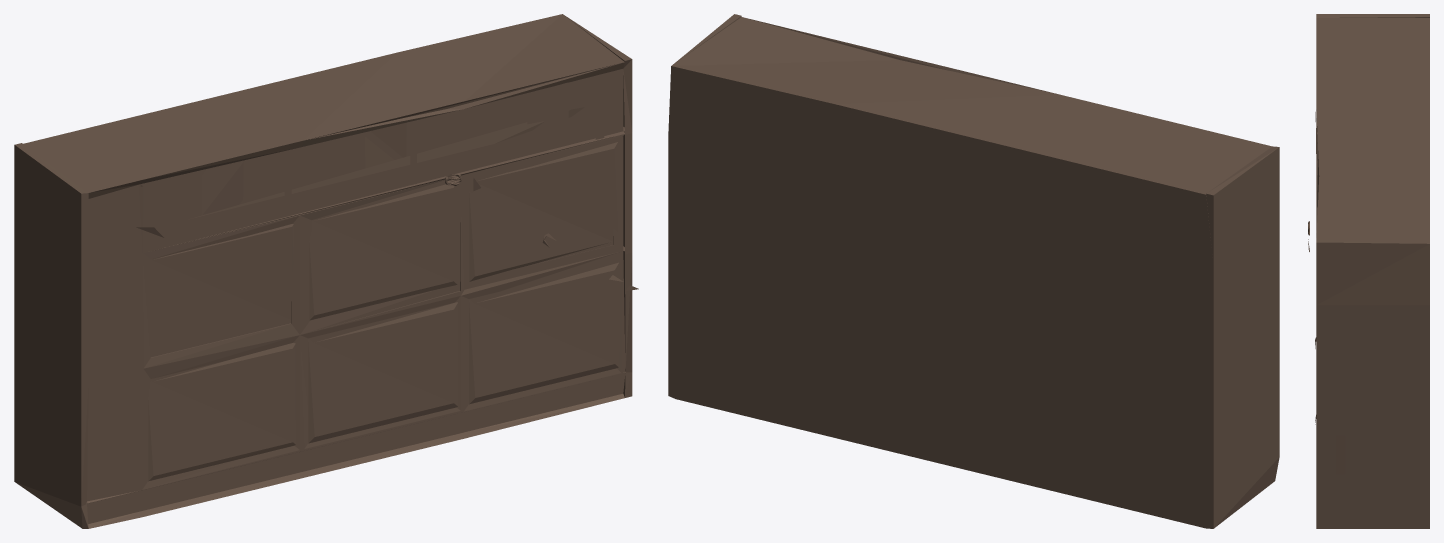
Rendered from bw-vault.lod2.glb.
The picture shows the model from 3 angles, left to right: view 1: azimuth 30°, elevation 25°; view 2: azimuth 150°, elevation 25°; view 3: azimuth 270°, elevation 25°; orthographic projection. The views are drawn at different scales.
Visible parts, largest first — view 1: Body.002_Material.003_0; view 2: Body.002_Material.003_0; view 3: Body.002_Material.003_0.
Boxes of the visible parts, box(x1,y1,x2,y2) form: Body.002_Material.003_0: box(14, 14, 638, 528); Body.002_Material.003_0: box(668, 14, 1279, 528); Body.002_Material.003_0: box(1308, 14, 1429, 528).
Bounding box in the file's own units: 3.97 × 2.3 × 0.8835.
